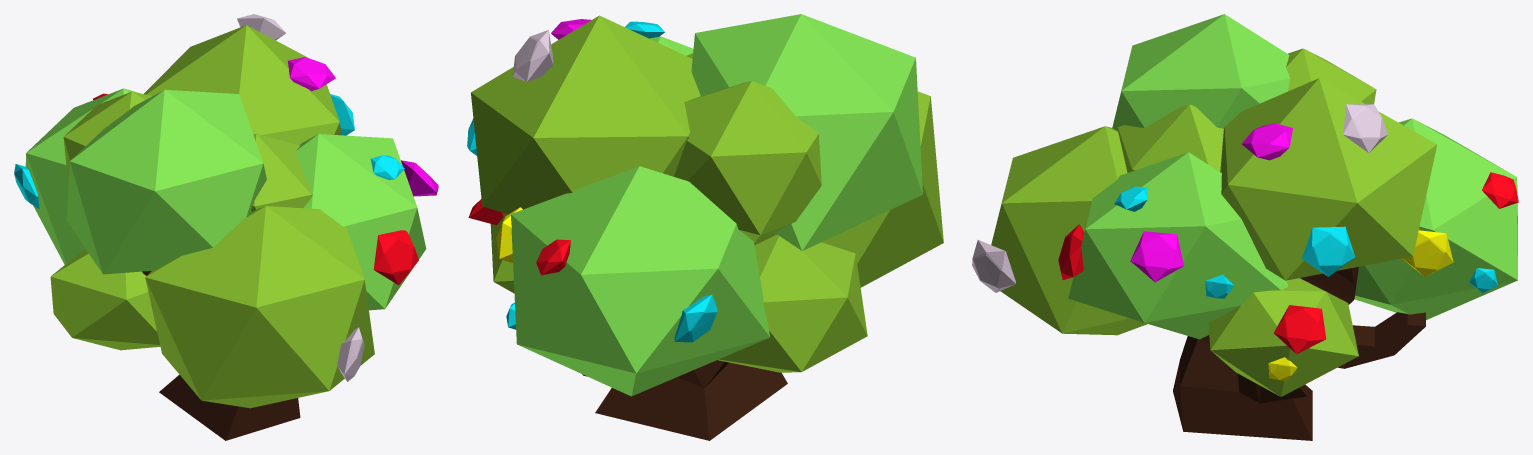
File: jewelry tree.fbx
3 views of the same model, side by side, from view 1: azimuth 30°, elevation 25°; view 2: azimuth 150°, elevation 25°; view 3: azimuth 270°, elevation 25° (orthographic). The views are drawn at different scales.
Parts seen in each view (by area): view 1: Icosphere_008, Icosphere_006, Icosphere_003, Icosphere_007, Icosphere_005, Icosphere_001, Cube, Icosphere, Icosphere_002, Icosphere_014, Icosphere_020, Icosphere_022 (+5 smaller); view 2: Icosphere_001, Icosphere_003, Icosphere_006, Icosphere_002, Icosphere_005, Cube, Icosphere_008, Icosphere_012, Icosphere_009, Icosphere_011, Icosphere_004, Icosphere_018 (+1 smaller); view 3: Icosphere_003, Icosphere_007, Icosphere_008, Icosphere_001, Icosphere_006, Cube, Icosphere_004, Icosphere, Icosphere_002, Icosphere_015, Icosphere_017, Icosphere_010 (+7 smaller).
Boxes of the visible parts, x1,y1,x2,y2 form: Icosphere_008: (145,206,374,408); Icosphere_006: (66,89,266,274); Icosphere_003: (144,25,341,145); Icosphere_007: (295,134,426,310); Icosphere_005: (50,249,160,350); Icosphere_001: (25,88,139,264); Cube: (142,271,300,440); Icosphere: (251,133,312,211); Icosphere_002: (63,91,152,182); Icosphere_014: (373,230,418,285); Icosphere_020: (288,57,335,91); Icosphere_022: (337,327,364,381); Icosphere_001: (511,166,770,396); Icosphere_003: (471,15,700,214); Icosphere_006: (691,14,922,250); Icosphere_002: (674,81,821,245); Icosphere_005: (717,234,867,372); Cube: (582,360,787,440); Icosphere_008: (822,91,943,287); Icosphere_012: (512,30,553,81); Icosphere_009: (674,294,717,342); Icosphere_011: (536,239,570,275); Icosphere_004: (490,213,514,293); Icosphere_018: (496,207,522,262); Icosphere_003: (1220,78,1437,280); Icosphere_007: (1068,152,1287,339); Icosphere_008: (991,126,1147,335); Icosphere_001: (1354,118,1517,319); Icosphere_006: (1112,14,1290,130); Cube: (1173,267,1425,440); Icosphere_004: (1208,278,1358,396); Icosphere: (1117,104,1223,172); Icosphere_002: (1286,48,1376,104); Icosphere_015: (1130,231,1183,282); Icosphere_017: (1302,226,1355,276); Icosphere_010: (1274,305,1326,354).
Size of the model in its own units: 1726 by 1722 by 2375.
